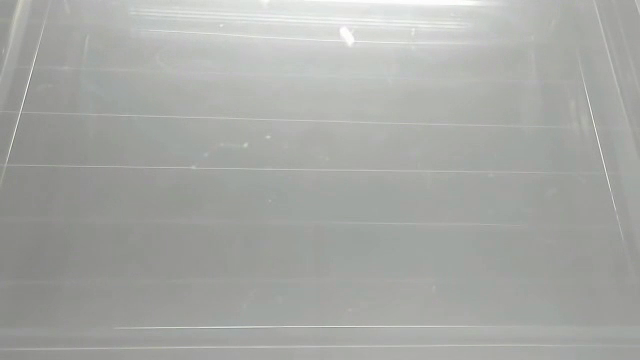alpha: (337, 24, 358, 48)
